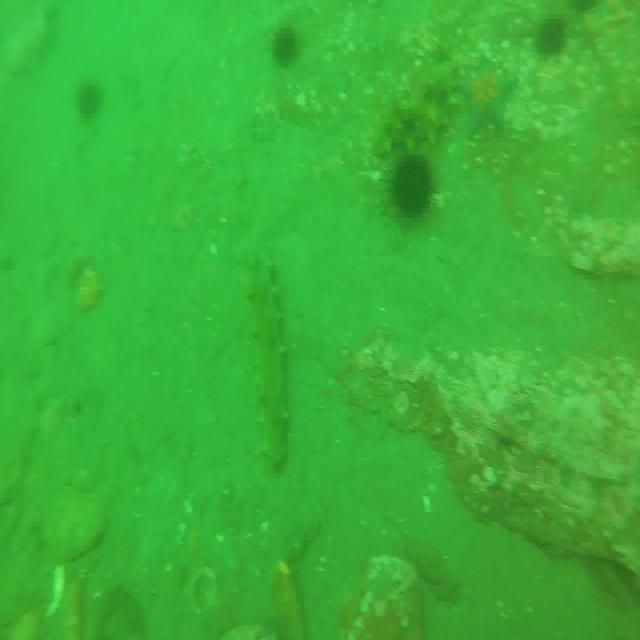echinus: (391, 150, 437, 230), (536, 18, 568, 64), (75, 78, 105, 122), (269, 23, 297, 65)
holothurian: (247, 252, 290, 470), (378, 57, 461, 152)
scallop: (189, 565, 220, 620)
starfish: (464, 61, 521, 138)
